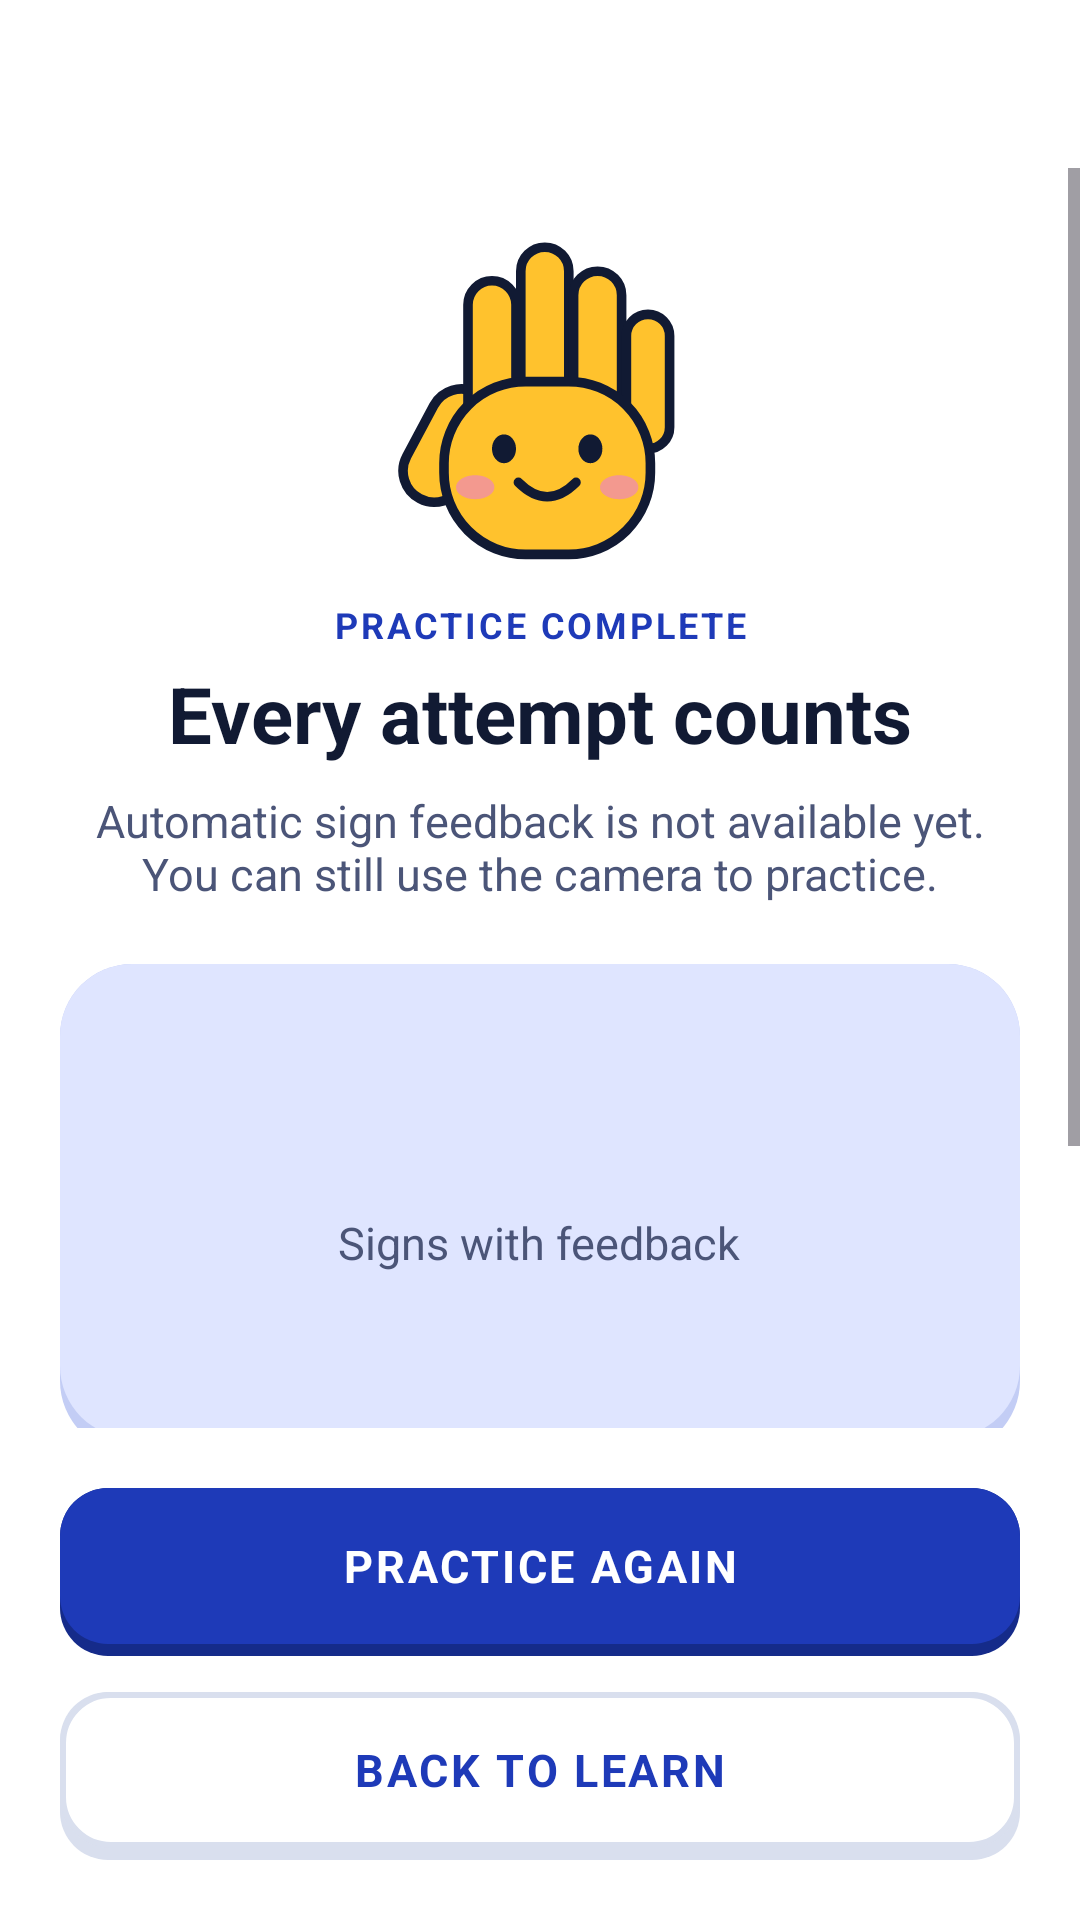

Locate icon controls on the screen. Image size 1080px x 1920px, boxes as (x1, y1, x2, y2).
mascot: (398, 242, 675, 560)
